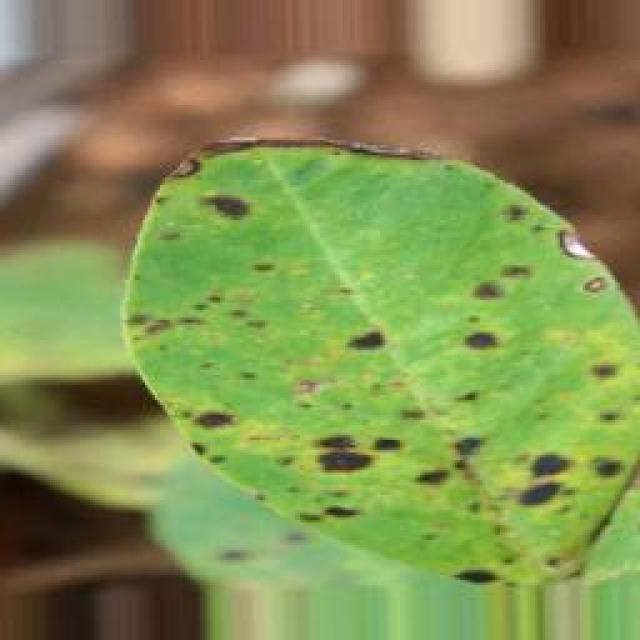Yellowish: (91, 111, 640, 609)
